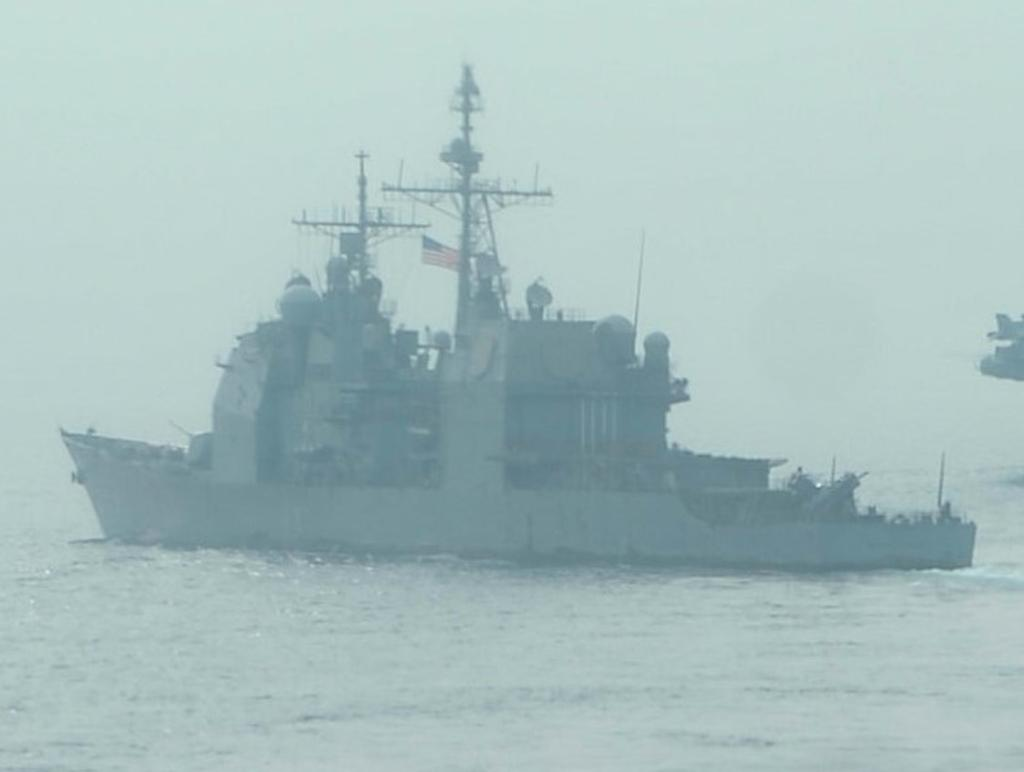Warship: (44, 58, 984, 578)
